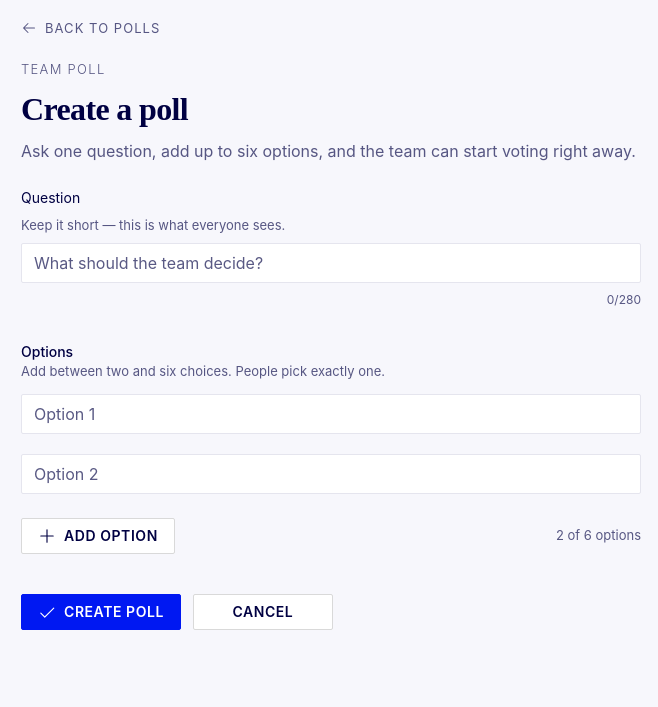
Test: CreatePollPage › CreatePollPage — remove control hidden at two options — appears after adding
Step 1. Click the button "Add option" → {"x": 98, "y": 536}, box [21, 518, 175, 554]
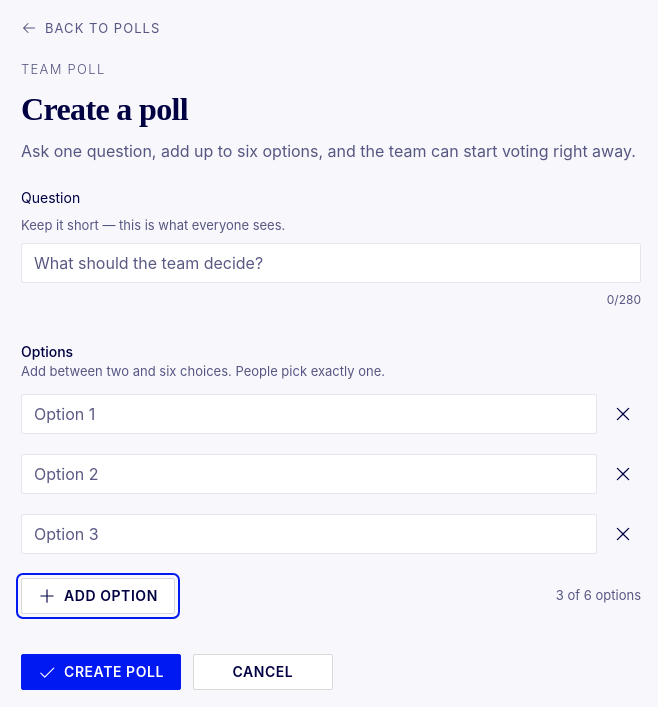
Now the number of buttons named "Remove option" is 3, box [605, 396, 641, 432]; [605, 456, 641, 492]; [605, 516, 641, 552]
